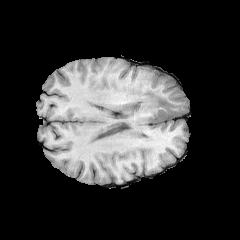glioma: (124, 85, 188, 133)
